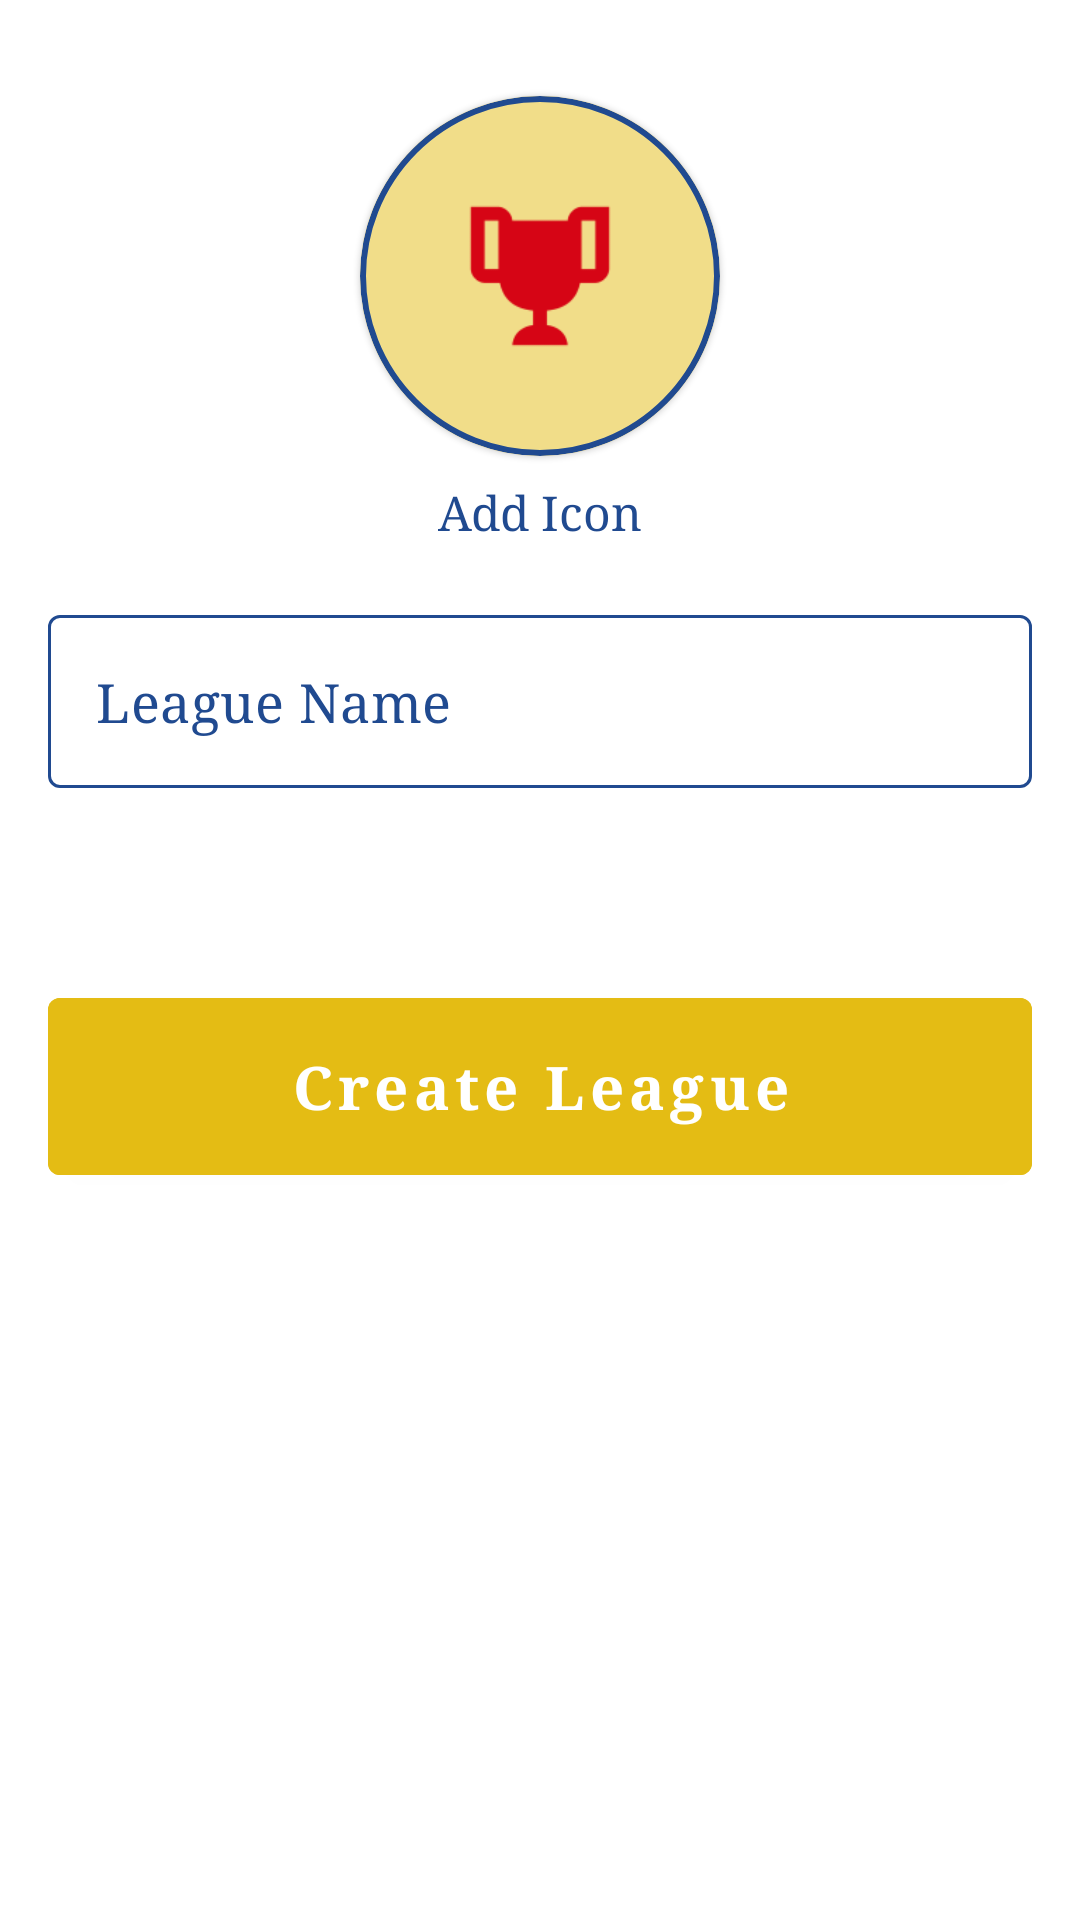

Screen size 1080×1920. Icon name, then its box in pixels as (x1, y1, x2, y2):
add league: (360, 96, 720, 456)
